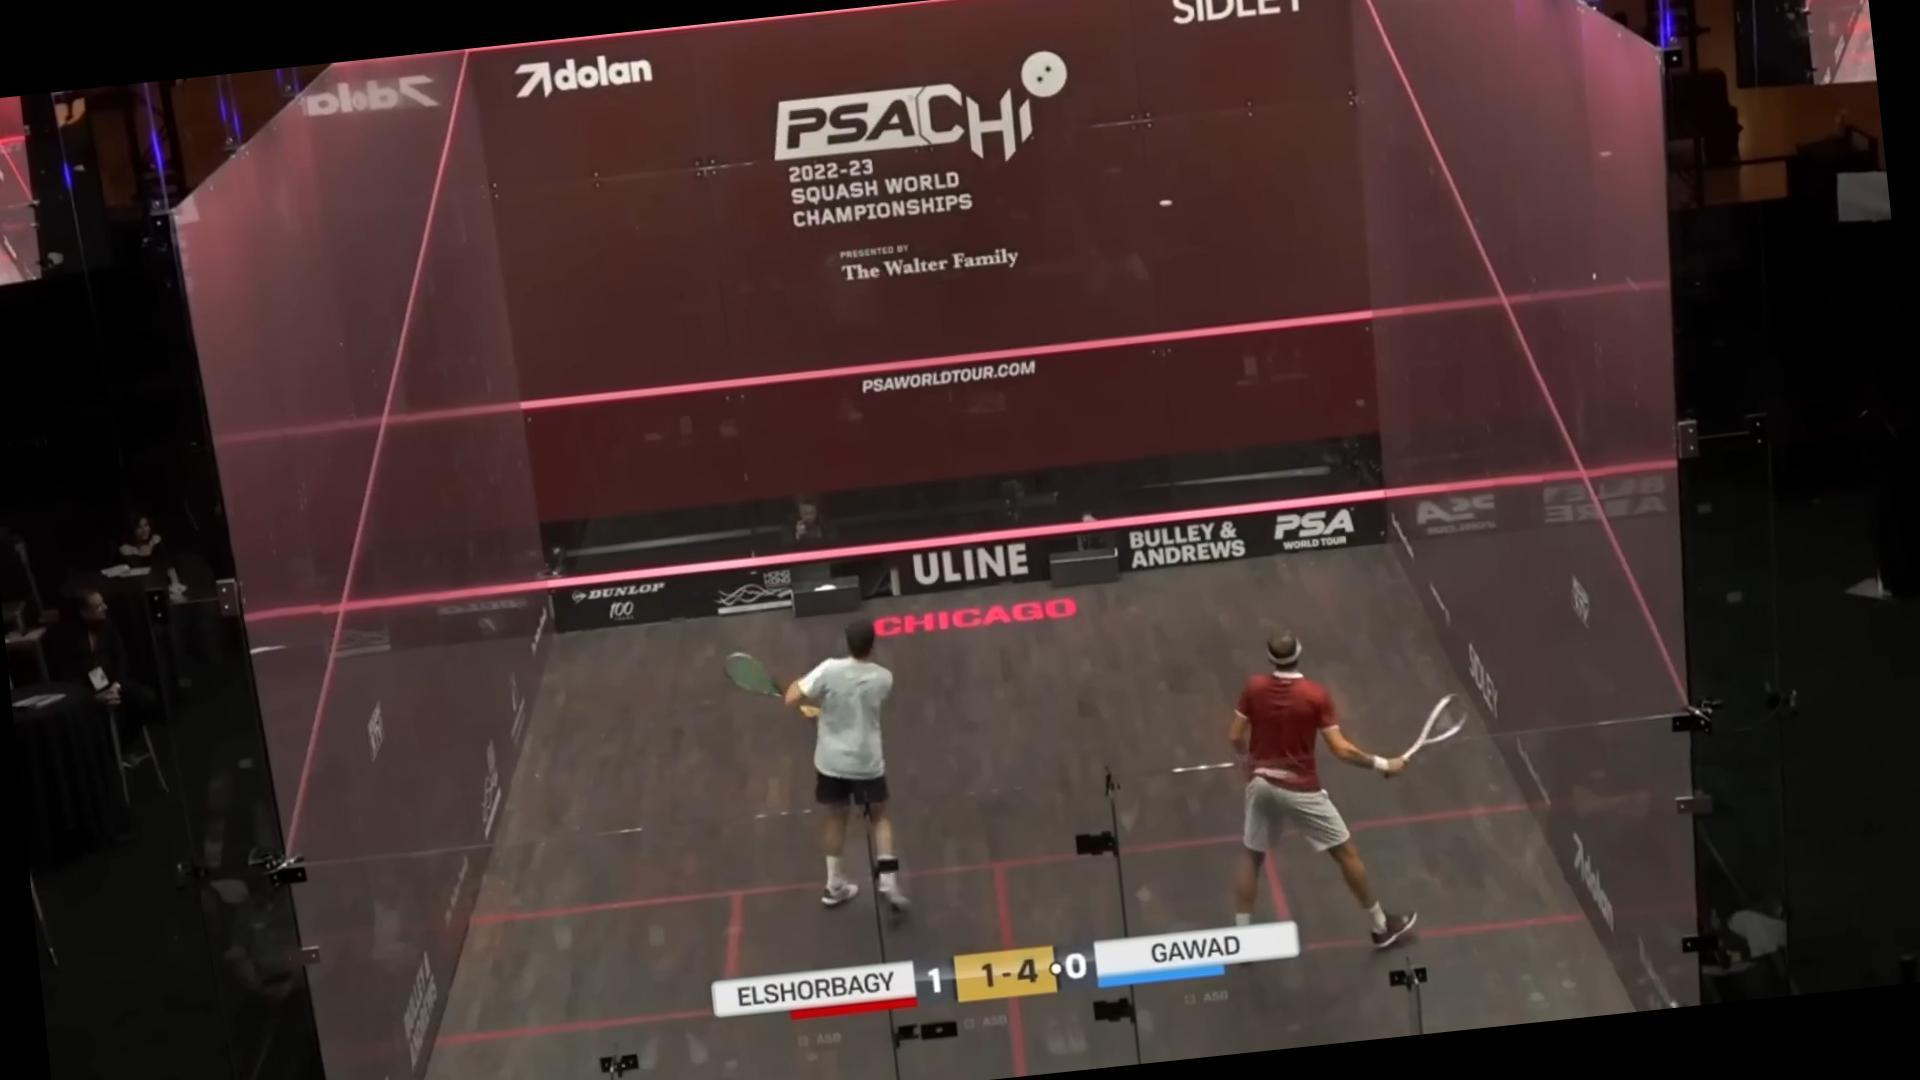Squash-Ball: (1147, 187, 1184, 222)
